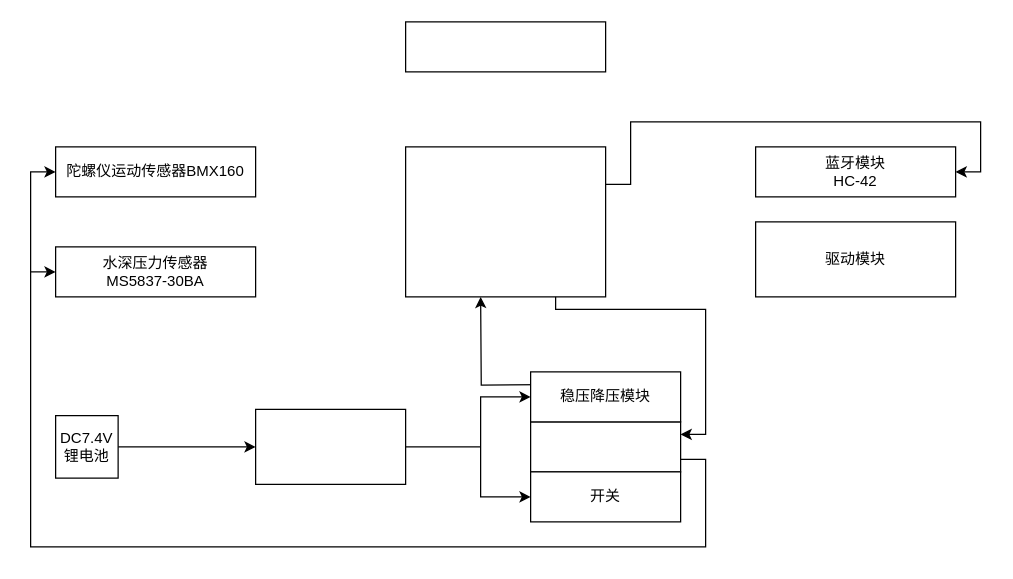
Some shapes in this 1013 by 579 pixel diagram are drawn without their labels. Here are the shapes that lost their labels. From the top down, the centre of each, then its label:
point (505, 46): 下载端口
point (505, 221): STM32 FXX 处理器
point (330, 446): 电源管理模块
point (605, 446): 稳压升压模块
